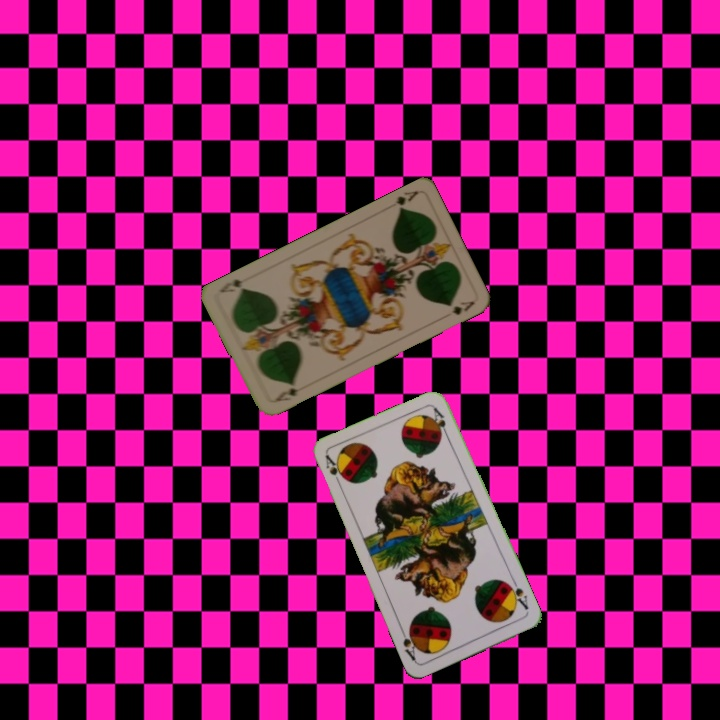GA: (269, 382, 307, 405), (392, 187, 421, 213)
SA: (321, 451, 348, 490), (503, 576, 531, 612)
